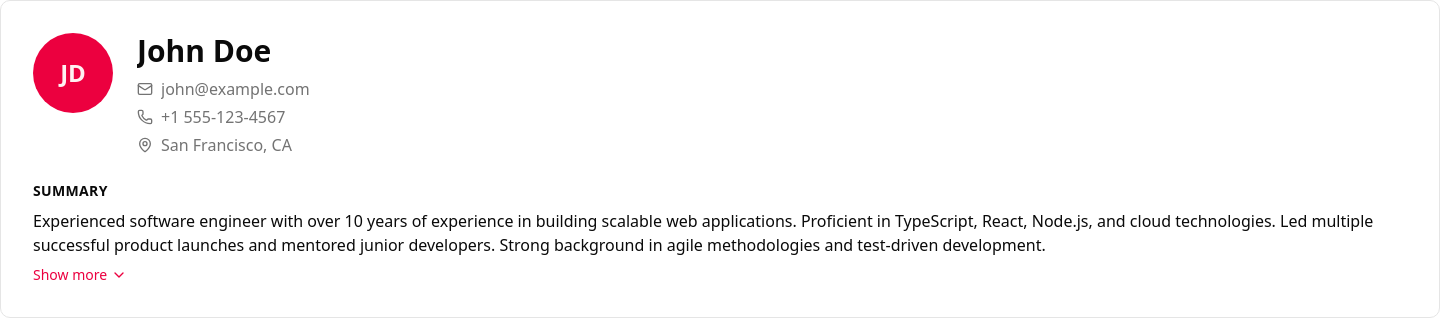
Test: ProfileHeader › Expandable Summary › toggles summary expansion when clicking button
Click the button "Show more" at (80, 275), box [33,265,127,285]
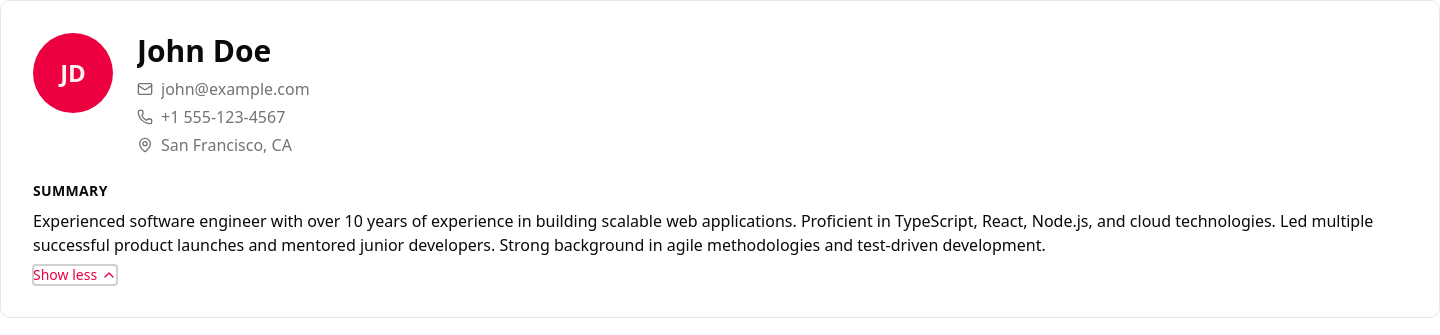
Result: the button "Show less" is shown
Result: the button "Show less" is expanded
Click the button "Show less" at (75, 275), box [33,265,117,285]
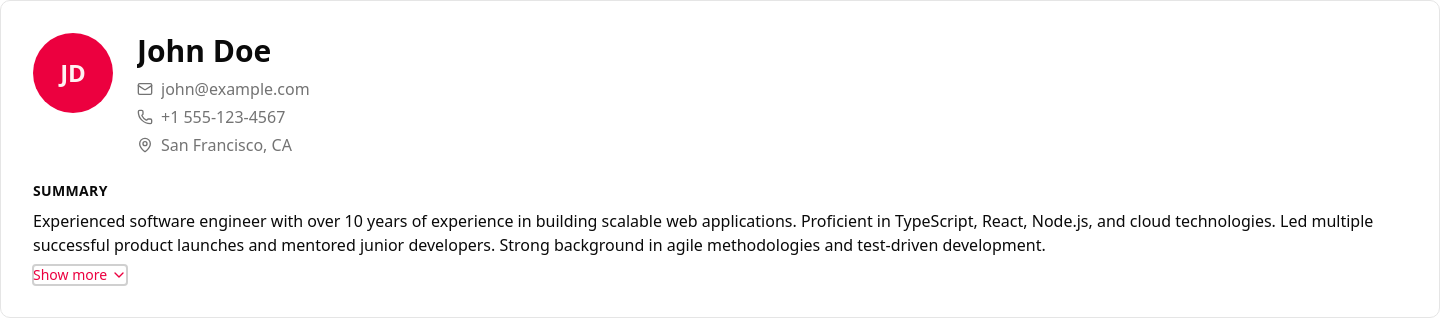
Result: the button "Show more" is shown at [33,265,127,285]
